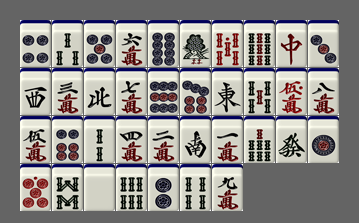0m: (276, 68, 307, 115)
0p: (20, 164, 51, 211)
0s: (212, 20, 243, 67)
1m: (212, 116, 243, 163)
1p: (308, 116, 339, 163)
1s: (180, 20, 211, 67)
1z: (212, 68, 243, 115)
2m: (148, 116, 179, 163)
2p: (148, 164, 179, 211)
2s: (84, 116, 115, 163)
2z: (180, 116, 211, 163)
3m: (52, 68, 83, 115)
3p: (308, 20, 339, 67)
3s: (52, 20, 83, 67)
3z: (20, 68, 51, 115)
4m: (116, 116, 147, 163)
4p: (20, 20, 51, 67)
4s: (180, 164, 211, 211)
4z: (84, 68, 115, 115)
5m: (20, 116, 51, 163)
5p: (84, 20, 115, 67)
5s: (244, 68, 275, 115)
5z: (84, 164, 115, 211)
6m: (116, 20, 147, 67)
6p: (52, 116, 83, 163)
6s: (116, 164, 147, 211)
6z: (276, 116, 307, 163)
7m: (116, 68, 147, 115)
7p: (180, 68, 211, 115)
7s: (244, 116, 275, 163)
7z: (276, 20, 307, 67)
8m: (308, 68, 339, 115)
8p: (148, 20, 179, 67)
8s: (52, 164, 83, 211)
9m: (212, 164, 243, 211)
9p: (148, 68, 179, 115)
9s: (244, 20, 275, 67)
